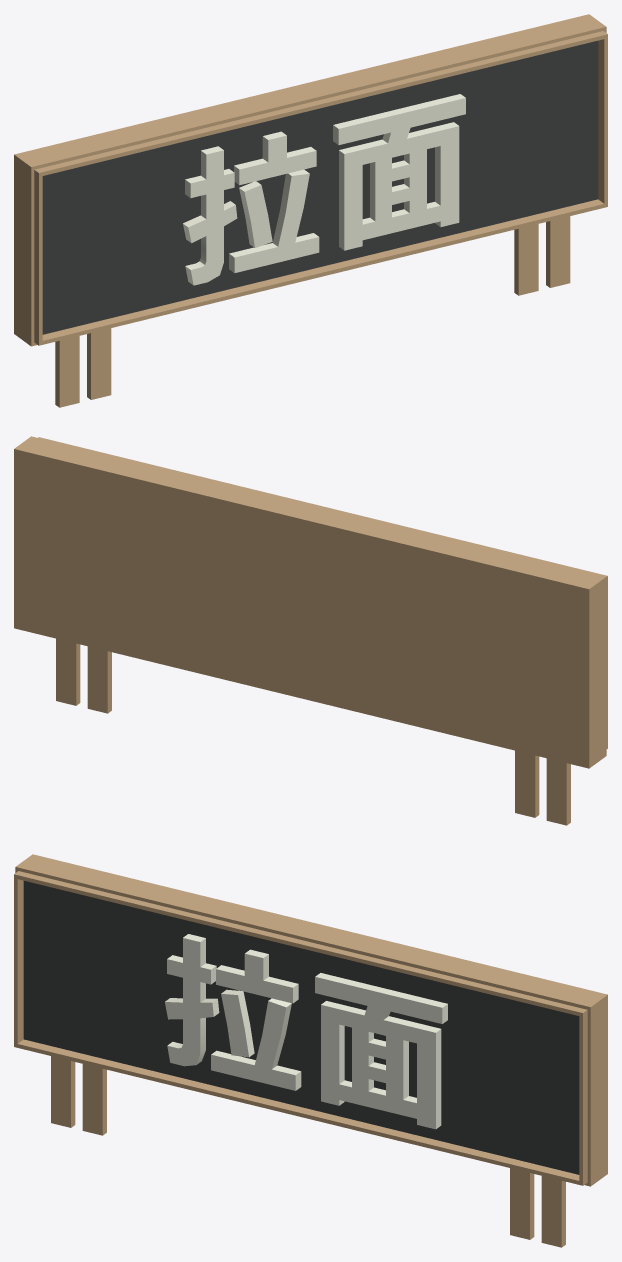
File: SM_sign_ramen_chinese.fbx
The picture shows the model from 3 angles, top to bottom: view 1: azimuth 30°, elevation 25°; view 2: azimuth 150°, elevation 25°; view 3: azimuth 330°, elevation 25°; orthographic projection.
Visible parts, largest first — view 1: Box166; view 2: Box166; view 3: Box166.
Boxes of the visible parts, box(x1,y1,x2,y2) form: Box166: box(14, 14, 607, 407); Box166: box(14, 436, 607, 825); Box166: box(14, 854, 607, 1247).
Bounding box in the file's own units: 136 × 8.94 × 56.74.
